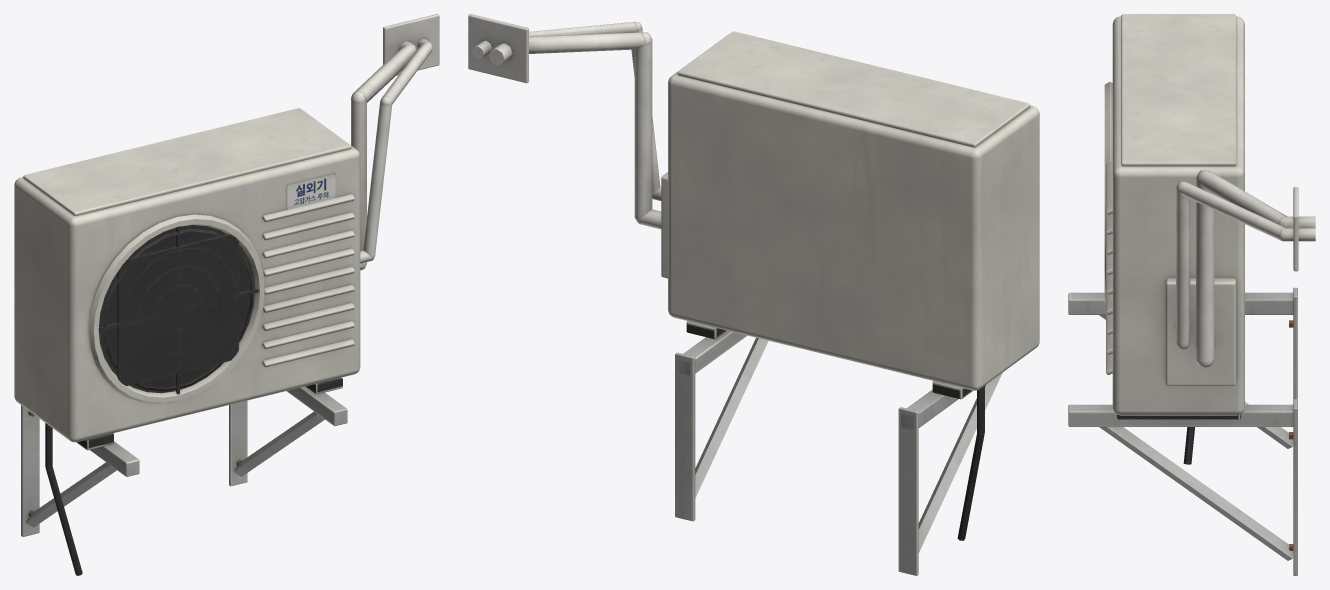
File: BuildingAcUnit.fbx
3 views of the same model, side by side, from view 1: azimuth 30°, elevation 25°; view 2: azimuth 150°, elevation 25°; view 3: azimuth 270°, elevation 25° (orthographic). The views are drawn at different scales.
Visible parts, largest first — view 1: BuildingAcUnit; view 2: BuildingAcUnit; view 3: BuildingAcUnit.
Part boxes in pixels (box(x1,y1,x2,y2)): BuildingAcUnit: box(14, 14, 439, 575); BuildingAcUnit: box(468, 14, 1039, 575); BuildingAcUnit: box(1068, 14, 1315, 575).
Bounding box in the file's own units: 1.3 × 1.17 × 0.56.
